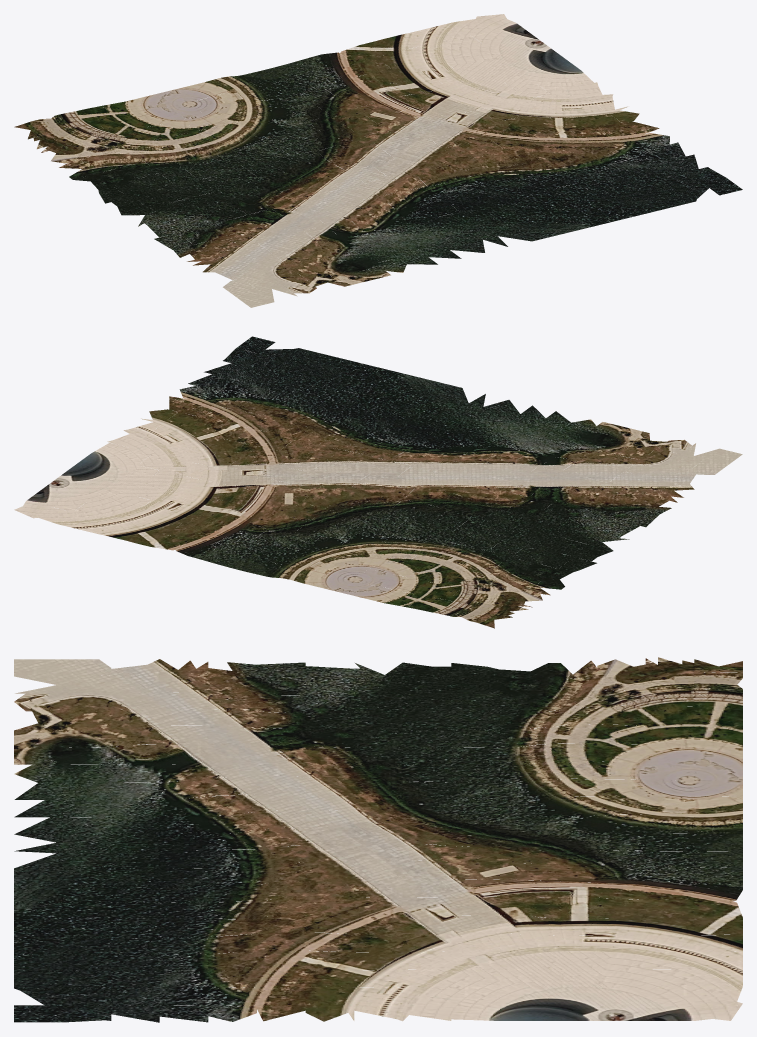
The model's file is al_shaheed_aleph_mesh.glb.
The picture shows the model from 3 angles, top to bottom: view 1: azimuth 30°, elevation 25°; view 2: azimuth 150°, elevation 25°; view 3: azimuth 270°, elevation 25°; orthographic projection. The views are drawn at different scales.
Visible parts, largest first — view 1: 30435373706352527064, 30435373706352536064, 30435373706352705044, 30435373706352714044; view 2: 30435373706352527064, 30435373706352536064, 30435373706352705044, 30435373706352714044; view 3: 30435373706352527064, 30435373706352536064, 30435373706352705044, 30435373706352714044.
Boxes of the visible parts, <box> form: 30435373706352527064: <box>59,75,625,307</box>; 30435373706352536064: <box>432,46,742,218</box>; 30435373706352705044: <box>14,39,431,163</box>; 30435373706352714044: <box>383,14,548,75</box>; 30435373706352527064: <box>175,365,742,595</box>; 30435373706352536064: <box>59,336,368,505</box>; 30435373706352705044: <box>127,506,542,628</box>; 30435373706352714044: <box>14,477,174,540</box>; 30435373706352527064: <box>14,659,597,937</box>; 30435373706352536064: <box>14,932,597,1022</box>; 30435373706352705044: <box>597,657,742,935</box>; 30435373706352714044: <box>597,934,742,1020</box>.
Bounding box in the file's own units: 335 × 4.02 × 286.
88 materials, 88 textured.
